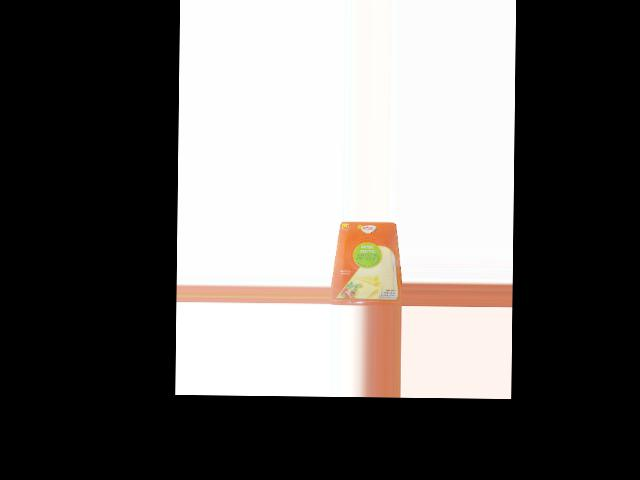cheese: (330, 221, 401, 306)
